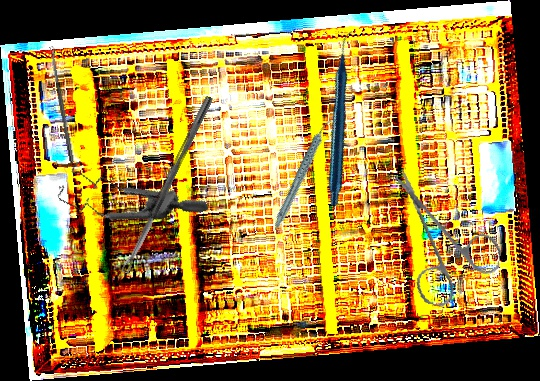Handpiece: (256, 30, 429, 208), (254, 118, 353, 229)
Iris Scissors: (369, 169, 515, 317)
Speculum: (48, 123, 209, 260)
Surgical Spoon: (119, 94, 214, 275), (49, 45, 75, 164)
